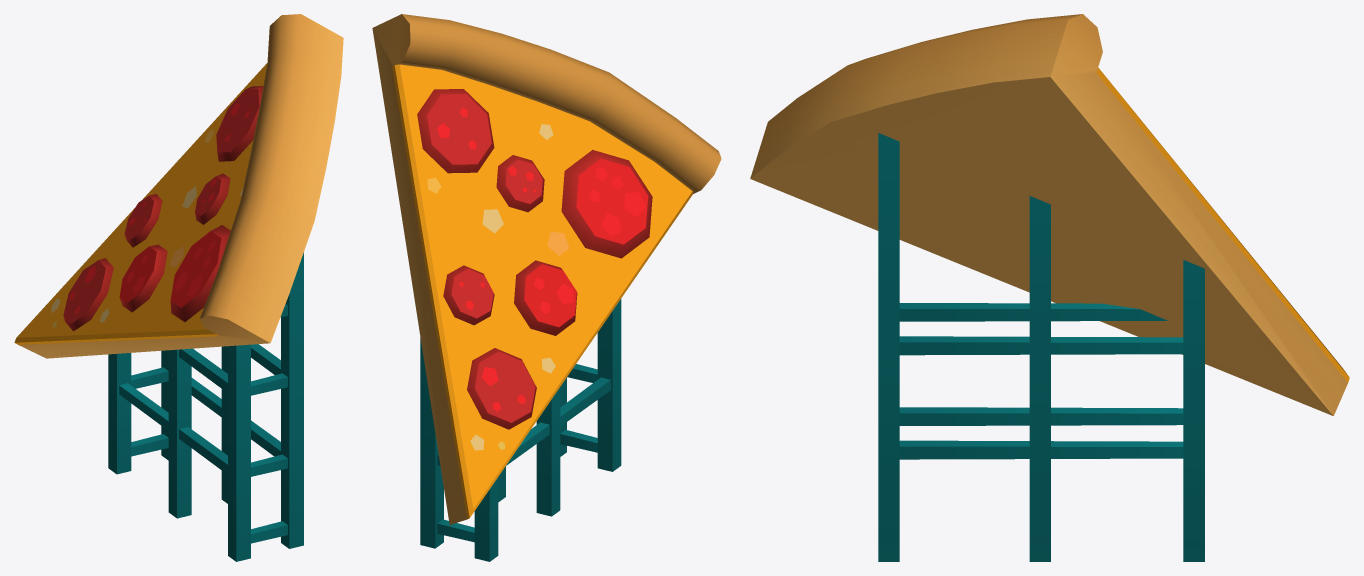
The model's file is PizzaSign_3_A.glb.
The picture shows the model from 3 angles, left to right: view 1: azimuth 30°, elevation 25°; view 2: azimuth 150°, elevation 25°; view 3: azimuth 270°, elevation 25°; orthographic projection. The views are drawn at different scales.
Visible parts, largest first — view 1: PizzaSign_3_A; view 2: PizzaSign_3_A; view 3: PizzaSign_3_A.
Boxes of the visible parts, box(x1,y1,x2,y2) form: PizzaSign_3_A: box(14, 14, 343, 561); PizzaSign_3_A: box(372, 14, 721, 561); PizzaSign_3_A: box(750, 14, 1349, 561).
Size of the model in its own units: 1.92 by 3.54 by 3.28.
2 materials, 2 textured.
